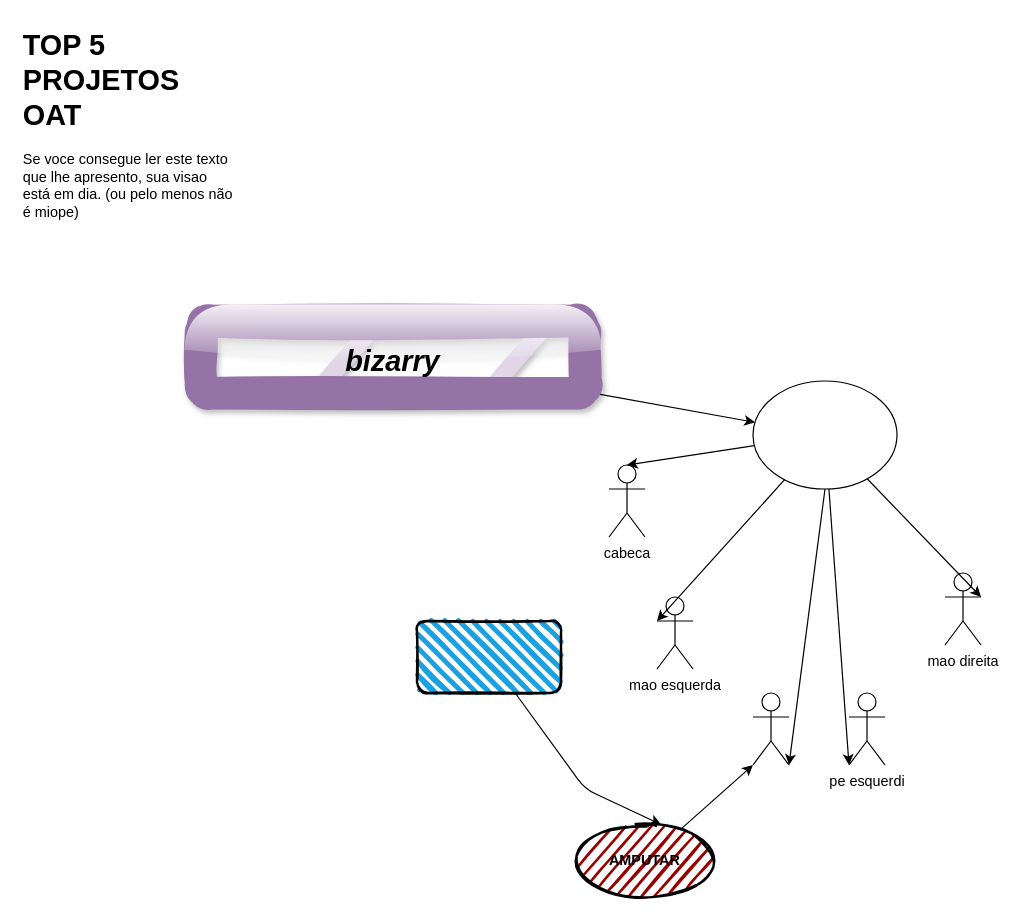
Image size: 1019x918. Some labels were removed from this diagram. Here are the shapes that lost their labels. From the top down, the centre of each, then its label:
[824,434]: top 5 coisas
[488,656]: 5 minute crafts
[770,728]: pe direito
